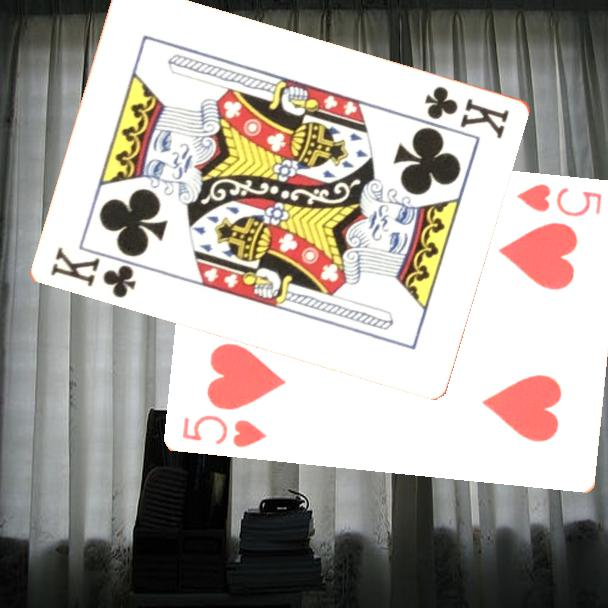c13: (421, 82, 513, 142), (47, 243, 140, 301)
h05: (513, 180, 605, 219), (179, 411, 270, 450)
